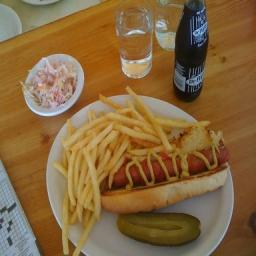hotdog: (110, 155, 230, 187), (190, 136, 238, 187)
